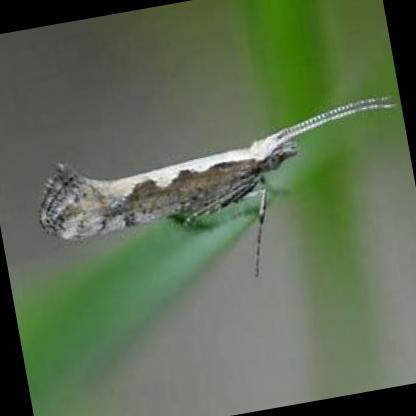plutella: (33, 92, 399, 283)
